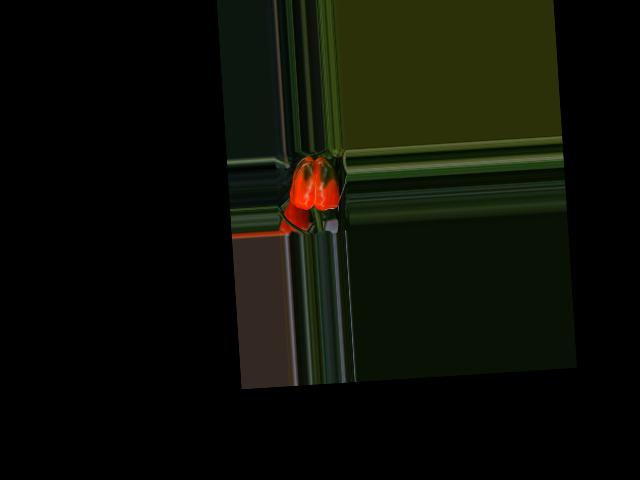bell_pepper: (284, 149, 347, 219)
